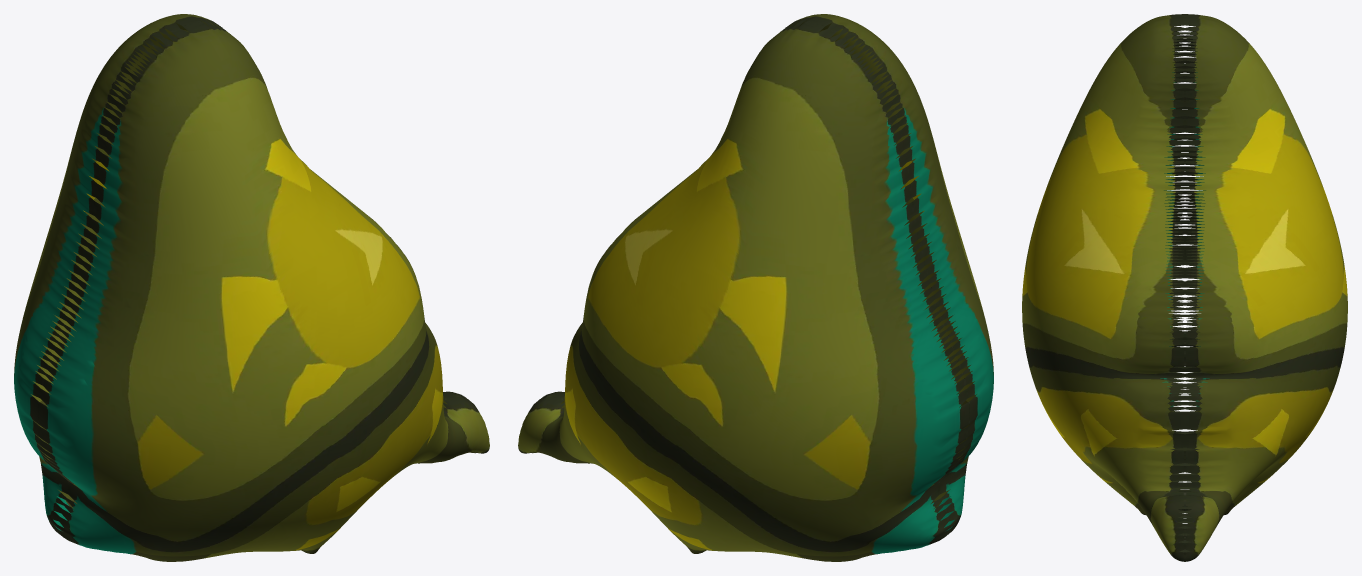
The model's file is green_wedge.glb.
3 views of the same model, side by side, from view 1: azimuth 30°, elevation 25°; view 2: azimuth 150°, elevation 25°; view 3: azimuth 270°, elevation 25° (orthographic). The views are drawn at different scales.
Visible parts, largest first — view 1: green_wedge; view 2: green_wedge; view 3: green_wedge.
Part boxes in pixels (<box>): green_wedge: <box>14,14,489,561</box>; green_wedge: <box>518,14,993,561</box>; green_wedge: <box>1022,14,1347,561</box>.
Size of the model in its own units: 0.9874 by 1.13 by 0.7366.
1 material, 1 textured.
